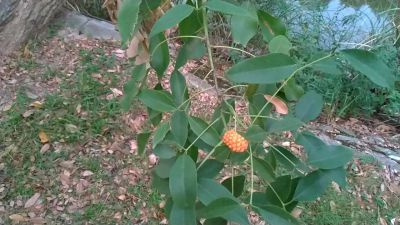eggs: (220, 128, 251, 155)
